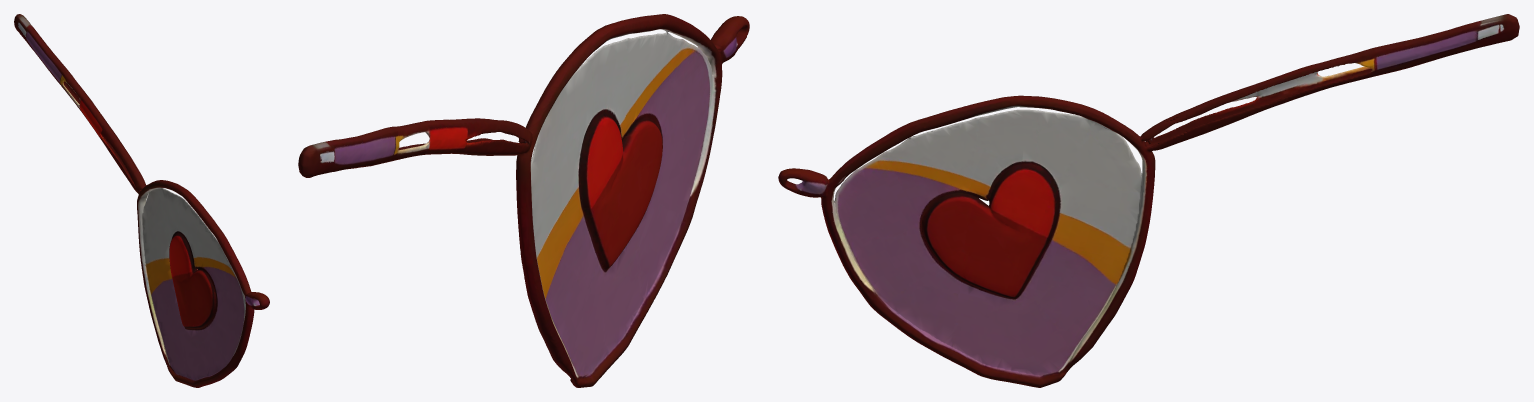
Rendered from 11_005_Mask_Medical.glb.
3 views of the same model, side by side, from view 1: azimuth 30°, elevation 25°; view 2: azimuth 150°, elevation 25°; view 3: azimuth 270°, elevation 25° (orthographic). The views are drawn at different scales.
Visible parts, largest first — view 1: tripo_node_8fc55dce-8b15-465b-8410-72e945ea67be; view 2: tripo_node_8fc55dce-8b15-465b-8410-72e945ea67be; view 3: tripo_node_8fc55dce-8b15-465b-8410-72e945ea67be.
Boxes of the visible parts, box(x1,y1,x2,y2) form: tripo_node_8fc55dce-8b15-465b-8410-72e945ea67be: box(14, 14, 269, 387); tripo_node_8fc55dce-8b15-465b-8410-72e945ea67be: box(298, 14, 749, 387); tripo_node_8fc55dce-8b15-465b-8410-72e945ea67be: box(778, 14, 1519, 387).
Size of the model in its own units: 0.0295 by 0.5552 by 1.
1 material, 1 textured.
